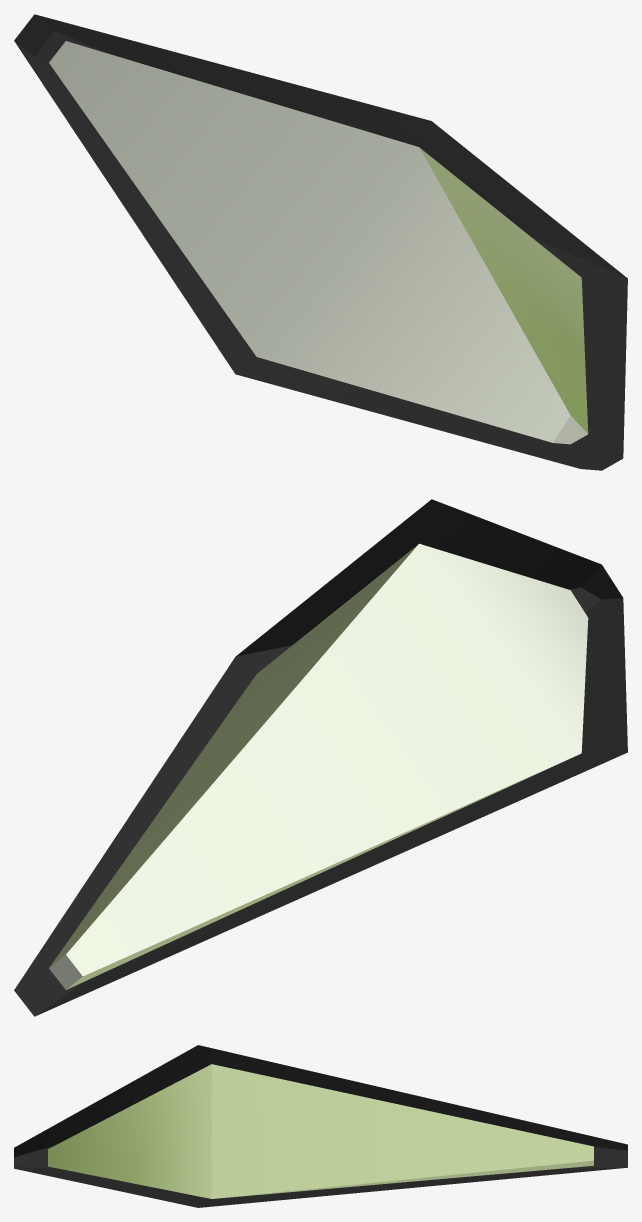
File: Characters_Preguica_Projectile.fbx
The picture shows the model from 3 angles, top to bottom: view 1: azimuth 30°, elevation 25°; view 2: azimuth 150°, elevation 25°; view 3: azimuth 270°, elevation 25°; orthographic projection. The views are drawn at different scales.
Parts seen in each view (by area): view 1: pCube1, pCube2; view 2: pCube1, pCube2; view 3: pCube1, pCube2.
Boxes of the visible parts, x1,y1,x2,y2 form: pCube1: (49, 41, 588, 444); pCube2: (14, 14, 627, 470); pCube1: (49, 543, 588, 989); pCube2: (14, 499, 627, 1016); pCube1: (48, 1064, 593, 1198); pCube2: (14, 1045, 627, 1207).
Size of the model in its own units: 1.37 by 0.7936 by 3.44.
